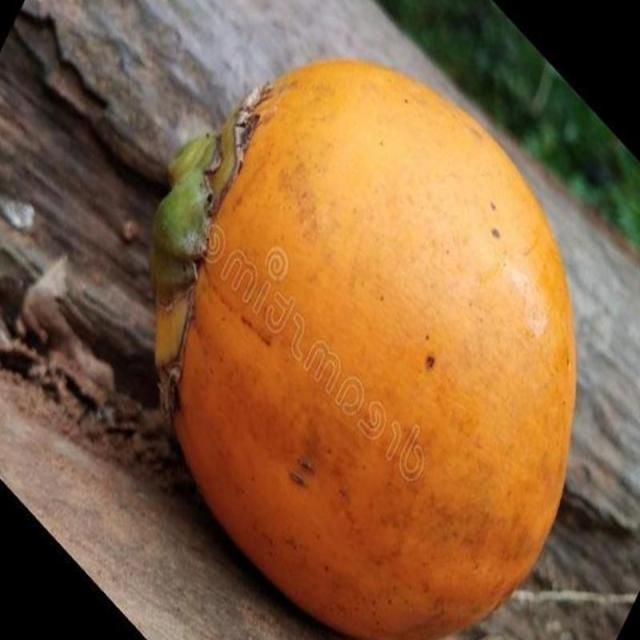good: (154, 60, 578, 639)
